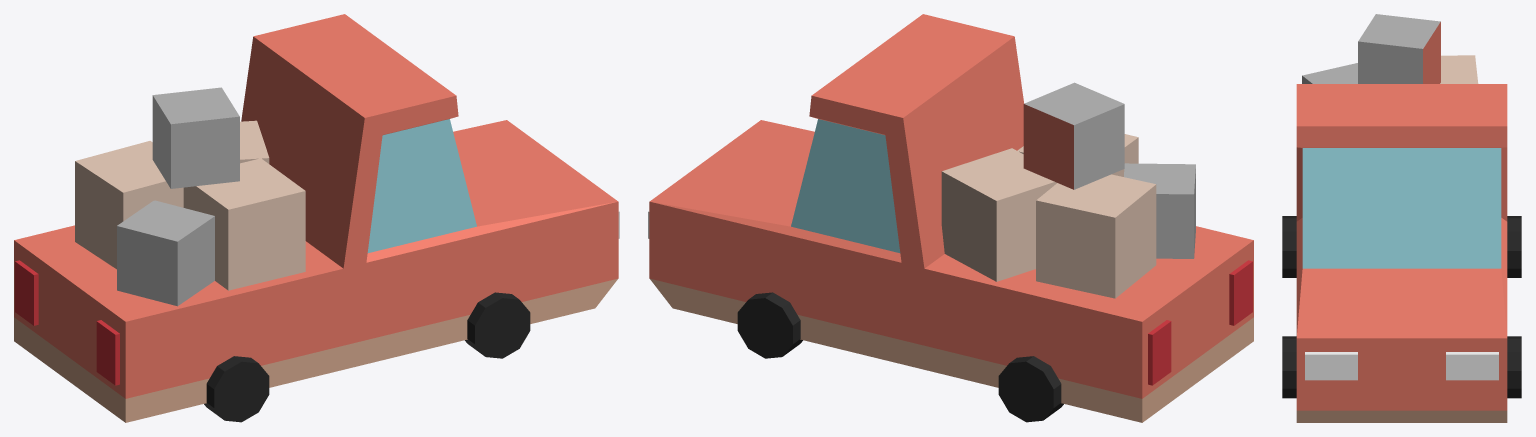
Rendered from Car 4.fbx.
3 renders of one model, left to right at view 1: azimuth 30°, elevation 25°; view 2: azimuth 150°, elevation 25°; view 3: azimuth 270°, elevation 25°, orthographic. The views are drawn at different scales.
Parts seen in each view (by area): view 1: Car_4; view 2: Car_4; view 3: Car_4.
Part boxes in pixels (left/top/right/bottom): Car_4: left=14, top=14, right=619, bottom=422; Car_4: left=648, top=14, right=1253, bottom=422; Car_4: left=1282, top=14, right=1521, bottom=422.
Bounding box in the file's own units: 521 × 264 × 227.
